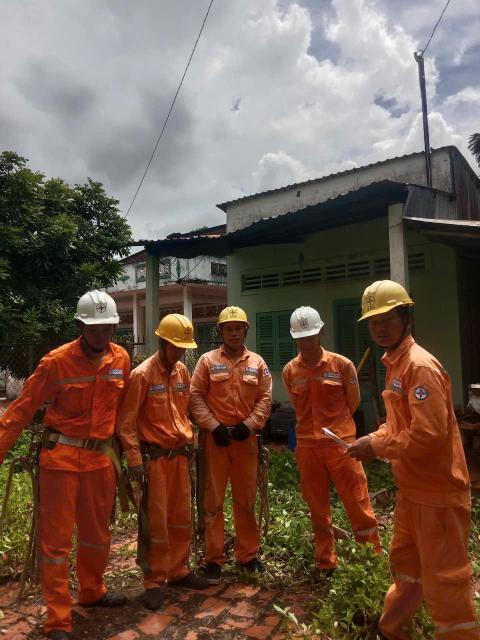gloves: (226, 416, 257, 447), (205, 418, 234, 450), (123, 457, 149, 486)
harness: (31, 421, 132, 461), (196, 408, 258, 447), (128, 431, 202, 463)
helmet: (341, 273, 418, 327), (150, 310, 200, 354), (70, 293, 126, 331), (286, 296, 323, 342), (206, 294, 251, 329)
shoes: (81, 582, 134, 611), (131, 581, 176, 613), (165, 566, 208, 598), (233, 553, 275, 585), (196, 550, 223, 590), (43, 618, 76, 640)
